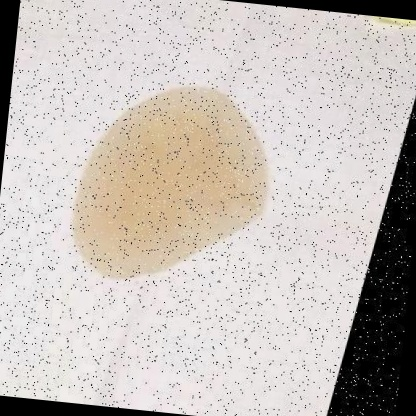coffee: (67, 72, 274, 296)
